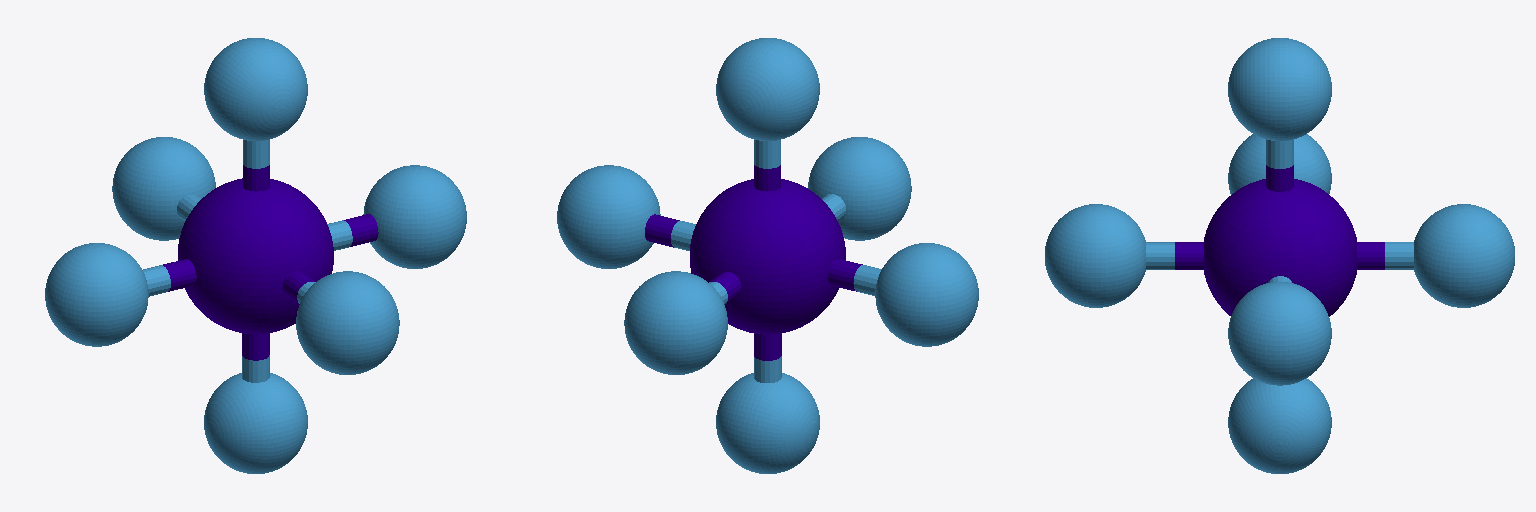
3 views of the same model, side by side, from view 1: azimuth 30°, elevation 25°; view 2: azimuth 150°, elevation 25°; view 3: azimuth 270°, elevation 25° (orthographic).
Visible parts, largest first — view 1: sf6g; view 2: sf6g; view 3: sf6g.
Boxes of the visible parts, x1=… form: sf6g: x1=45, y1=38, x2=466, y2=473; sf6g: x1=557, y1=38, x2=978, y2=473; sf6g: x1=1045, y1=38, x2=1514, y2=473.
Size of the model in its own units: 51.68 by 51.68 by 51.68.